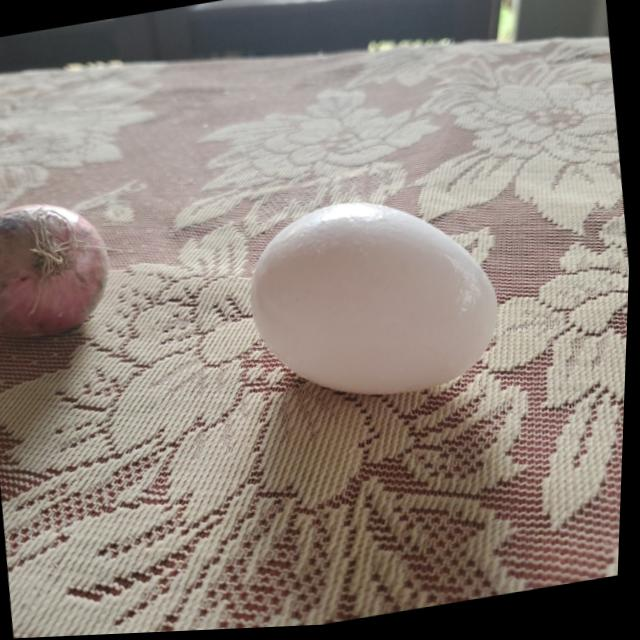egg: (248, 182, 515, 412)
onion: (0, 191, 116, 340)
